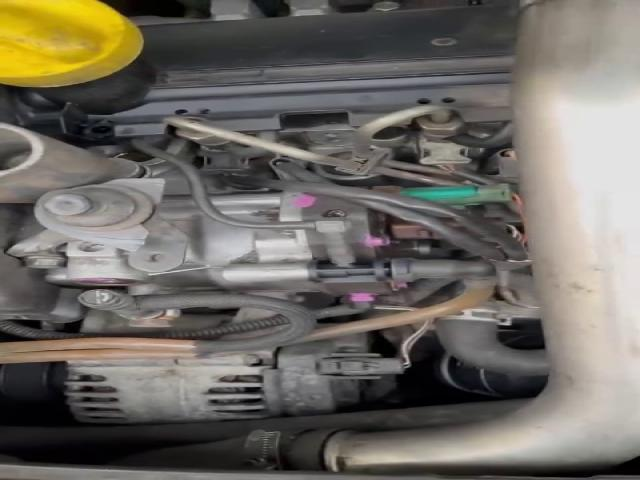alternator: (63, 322, 413, 425)
high_pressure_pump: (59, 184, 410, 305)
